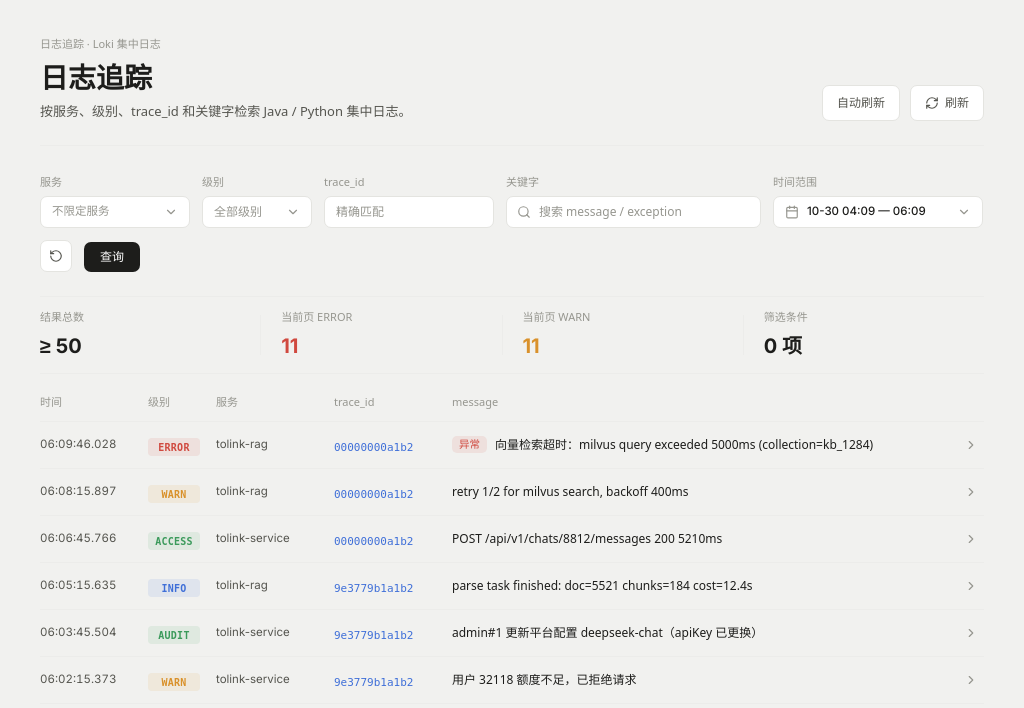
Test: LogsPage › lists logs, opens detail, and filters by trace_id
The width and height of the screenshot is (1024, 708).
Click the 2nd row. click: (512, 444)
box: [40,421,984,468]
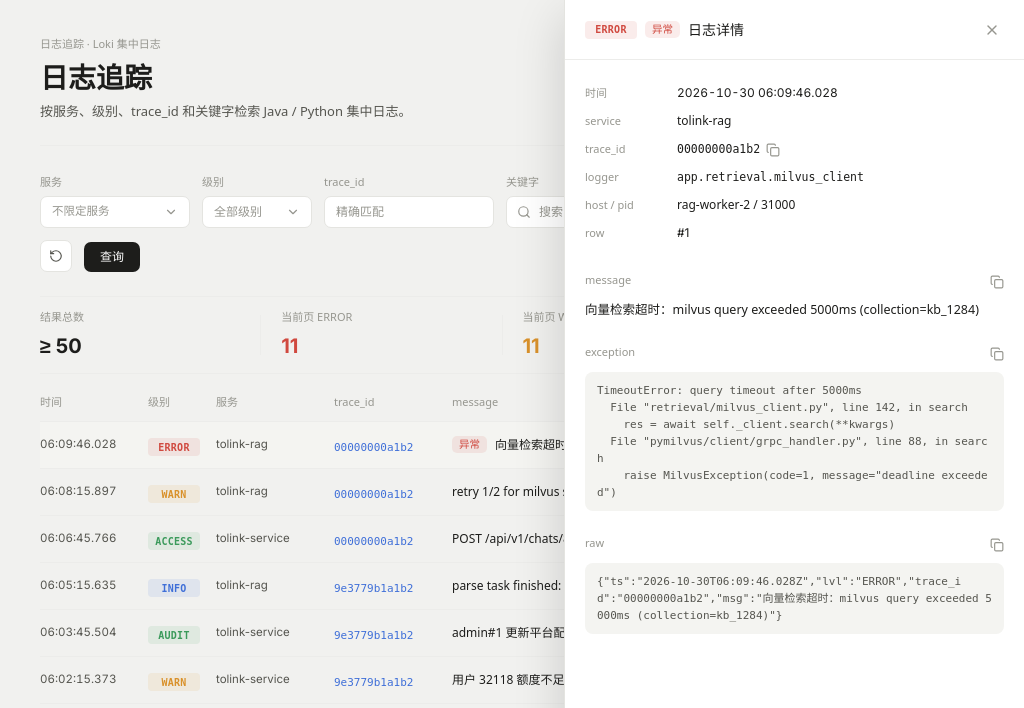
Check: the text "logger" is shown, box [585,169,619,184]
Click the 1st button titled "按此 trace_id 追踪". click: (374, 448)
box: [334,440,414,456]
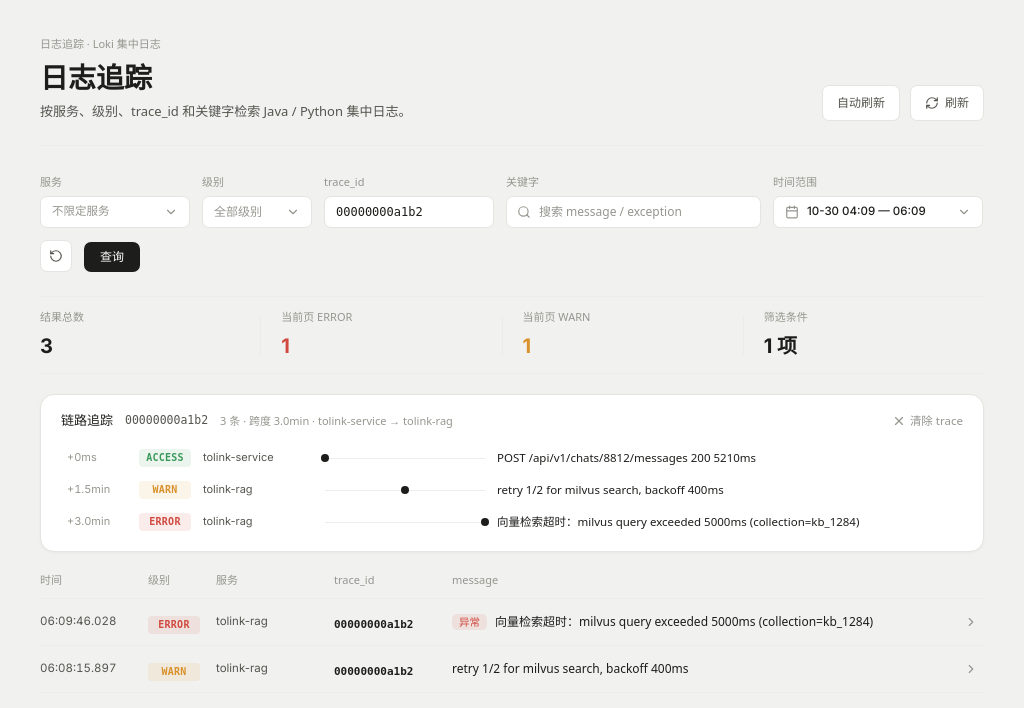
Check: the text "链路追踪" is shown, box [61,411,113,430]
